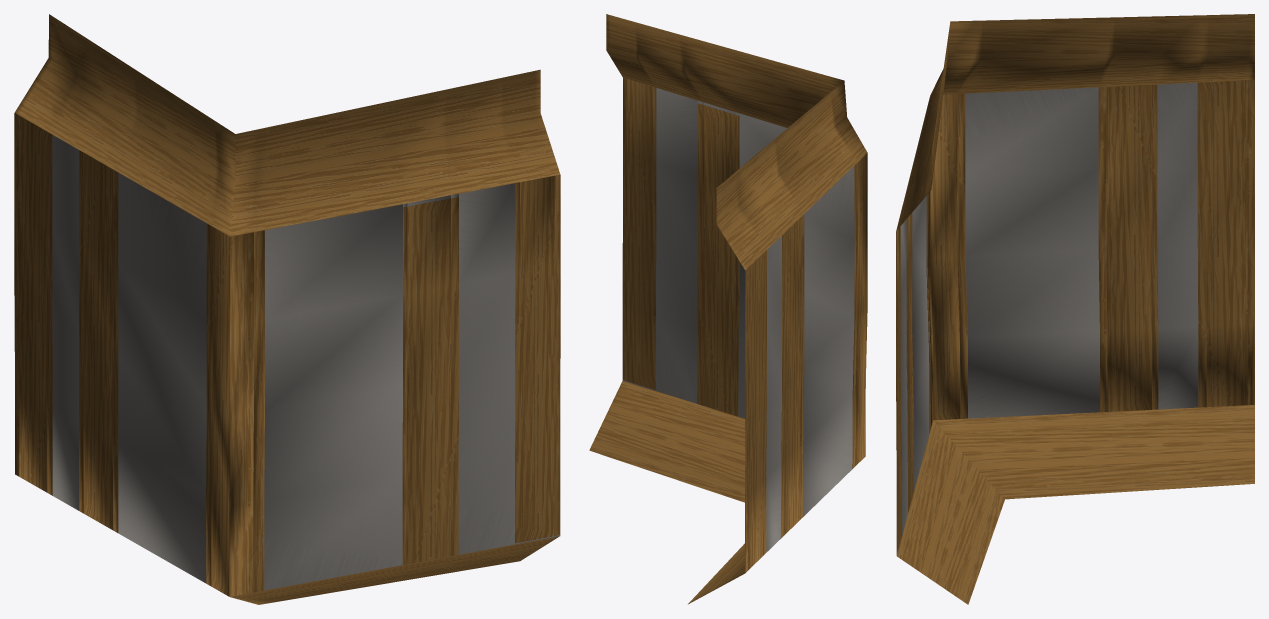
The model's file is wallzakr4th.fbx.
The picture shows the model from 3 angles, left to right: view 1: azimuth 30°, elevation 25°; view 2: azimuth 150°, elevation 25°; view 3: azimuth 270°, elevation 25°; orthographic projection. The views are drawn at different scales.
Parts seen in each view (by area): view 1: roomcorner; view 2: roomcorner; view 3: roomcorner.
Part boxes in pixels (x1,y1,x2,y2): roomcorner: (14, 14, 560, 604); roomcorner: (589, 14, 867, 604); roomcorner: (896, 14, 1254, 604).
Bounding box in the file's own units: 200 × 280 × 200.
